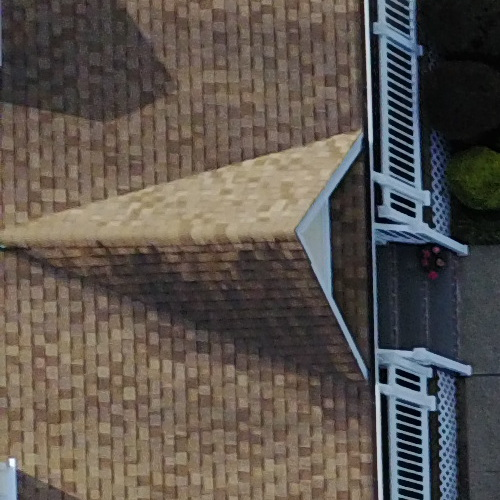flower pot: (412, 241, 459, 283)
